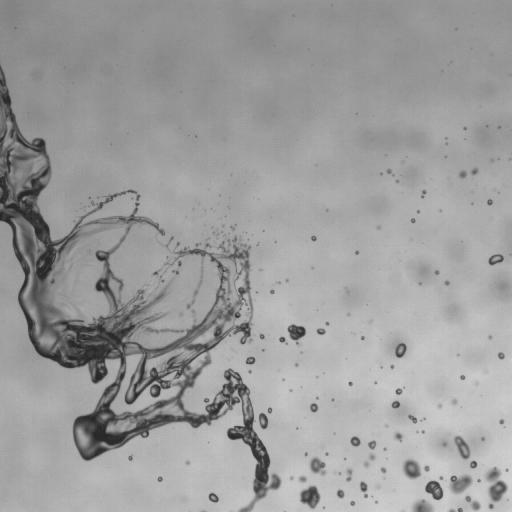droplet: (299, 485, 320, 508), (449, 474, 472, 494), (425, 476, 443, 500), (287, 324, 306, 345), (402, 459, 421, 479), (411, 498, 434, 511), (309, 457, 325, 475), (488, 254, 503, 265), (395, 343, 406, 357), (259, 413, 268, 429), (350, 436, 360, 446), (208, 493, 218, 502), (394, 432, 403, 441), (246, 356, 255, 364), (391, 400, 400, 408), (310, 403, 318, 412), (316, 328, 325, 335), (368, 440, 375, 449), (337, 489, 344, 498), (459, 170, 466, 178), (279, 336, 287, 343), (471, 168, 478, 175), (395, 388, 402, 395), (470, 461, 477, 468), (298, 476, 306, 482), (498, 352, 504, 359), (368, 454, 375, 460), (451, 398, 457, 404), (380, 467, 386, 473), (421, 190, 426, 197), (487, 199, 492, 205), (364, 461, 369, 467), (424, 465, 429, 471), (259, 334, 264, 339), (267, 407, 272, 412), (157, 476, 162, 481), (311, 236, 316, 240), (178, 312, 183, 316), (437, 404, 442, 408), (499, 419, 503, 424), (350, 501, 355, 505), (387, 169, 391, 173), (214, 231, 218, 235), (435, 270, 439, 274), (445, 281, 449, 285), (270, 289, 274, 293), (390, 364, 394, 368), (460, 375, 464, 379), (128, 456, 132, 460), (186, 460, 189, 465), (411, 218, 414, 222), (176, 243, 179, 247), (348, 382, 352, 385), (231, 226, 234, 229), (355, 251, 358, 254), (325, 322, 328, 325), (361, 336, 364, 339), (295, 363, 298, 366), (443, 443, 446, 446), (290, 476, 293, 479), (488, 336, 491, 338), (248, 370, 251, 372), (422, 430, 424, 433), (478, 479, 480, 482), (377, 485, 379, 488), (285, 279, 287, 281), (475, 382, 477, 384), (482, 438, 484, 440), (384, 447, 386, 449), (375, 501, 377, 503)
ligament: (0, 64, 281, 511), (484, 467, 508, 508), (454, 436, 470, 459), (465, 495, 480, 511), (359, 481, 367, 497), (164, 237, 172, 248), (346, 468, 352, 481), (408, 415, 417, 423), (447, 507, 462, 511), (201, 510, 205, 511), (401, 510, 404, 511)
